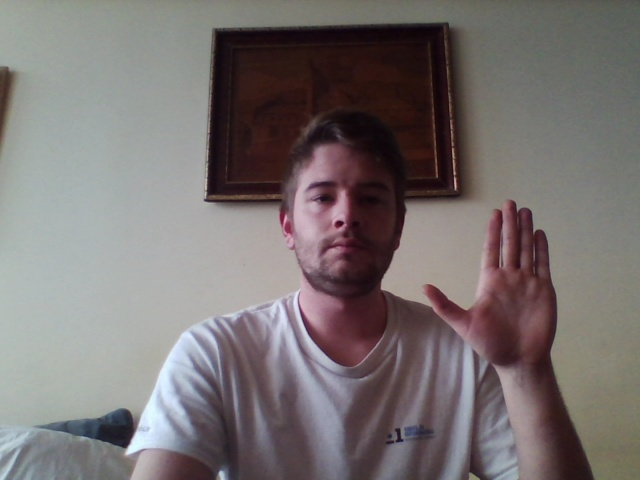pozdrav: (421, 197, 564, 367)
